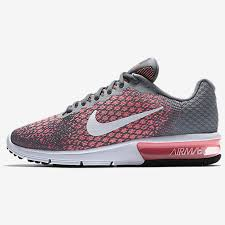nike: (86, 105, 165, 137)
